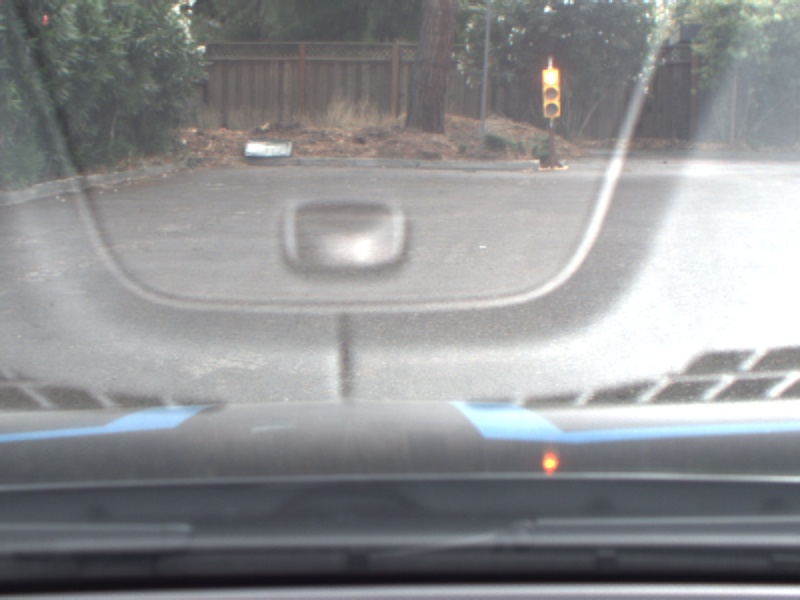red: (541, 66, 564, 123)
